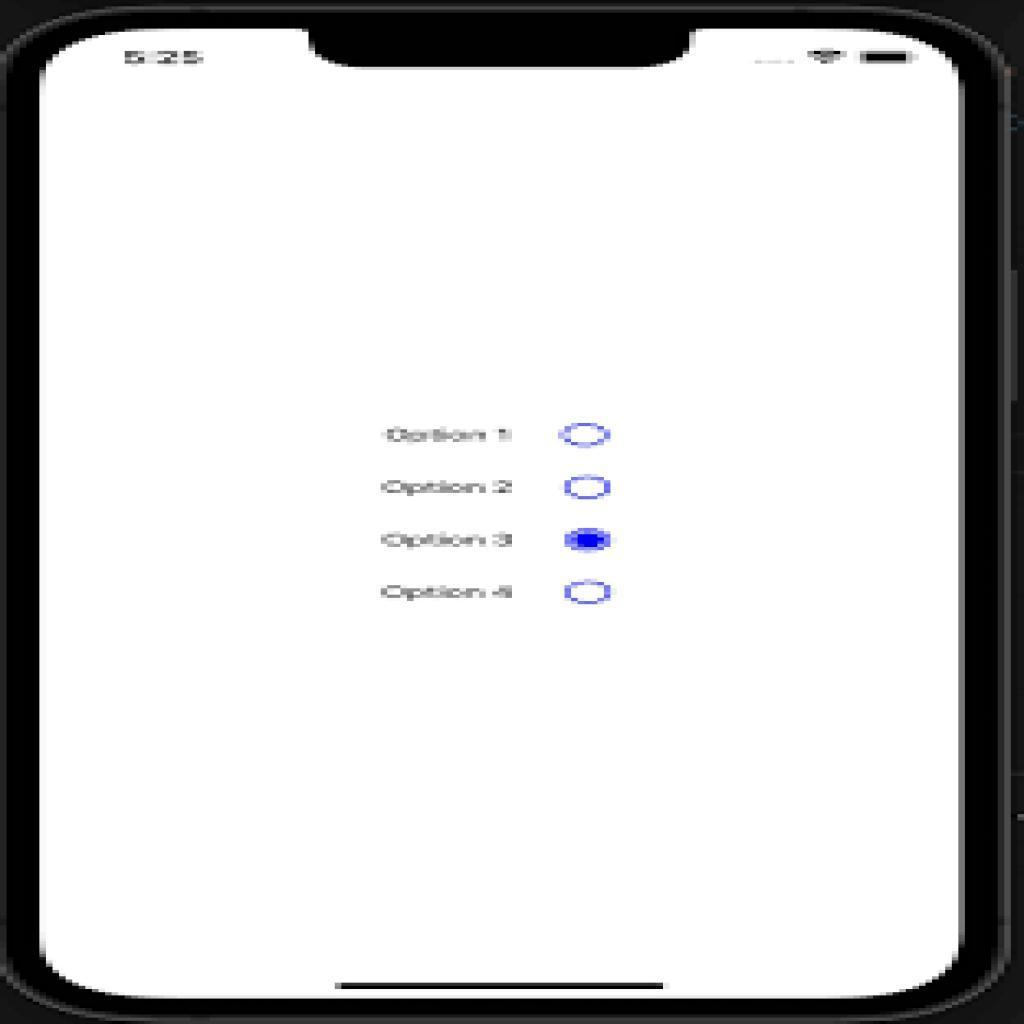radio: (557, 417, 615, 452), (561, 577, 616, 607), (562, 527, 617, 557), (563, 474, 615, 504), (942, 482, 943, 483)
